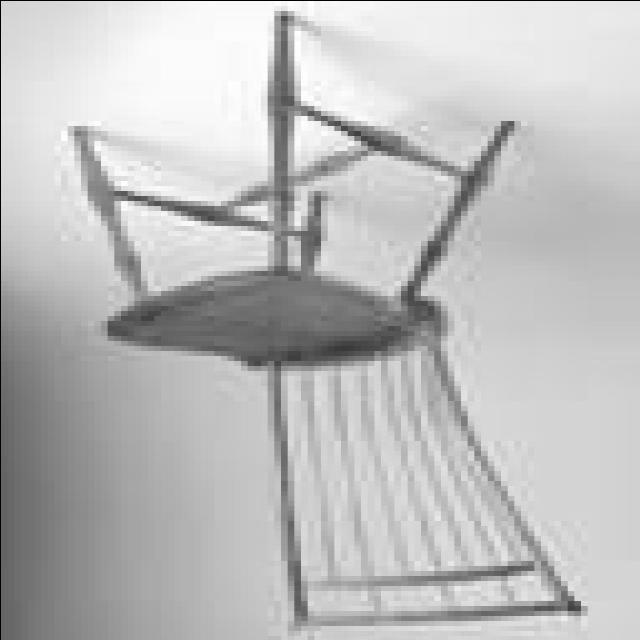chair: (66, 13, 587, 633)
